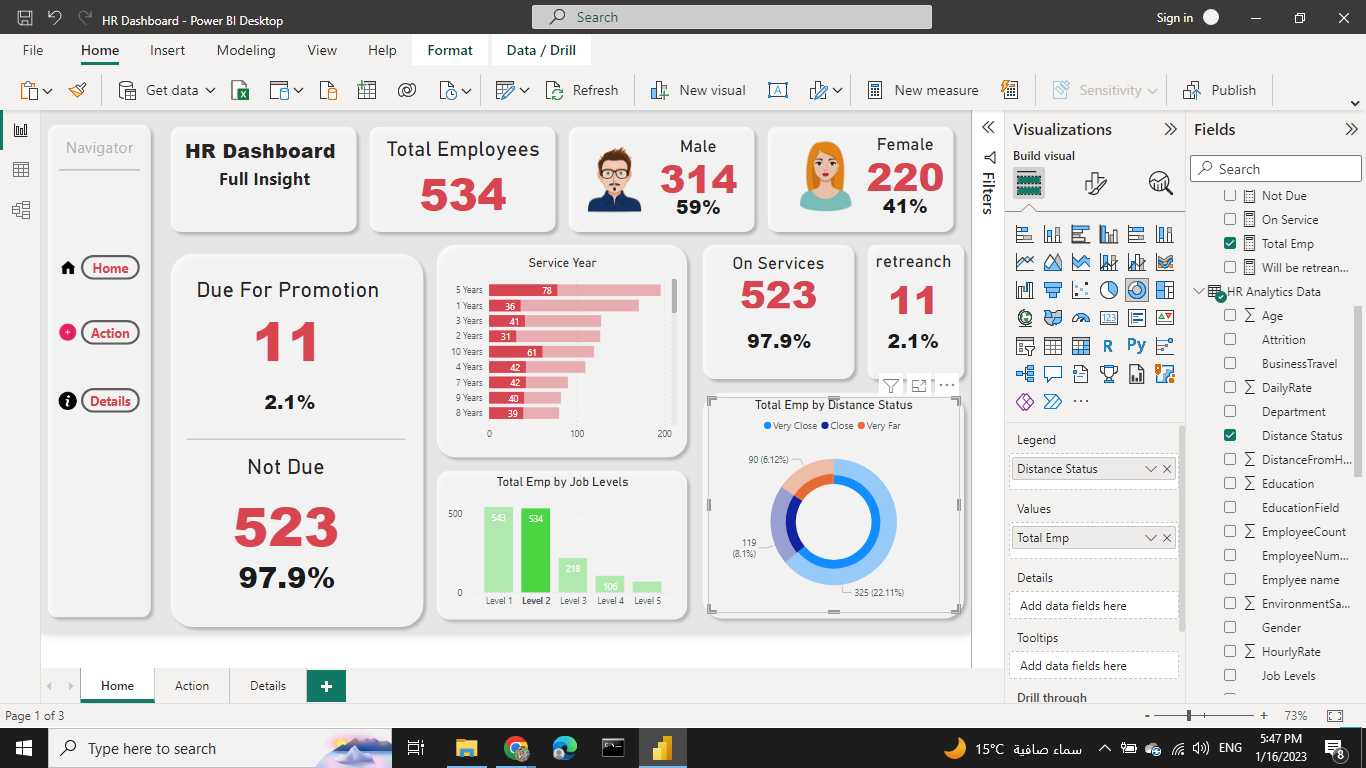

Layout of this report page (visuals, bound fields, positions):
{"tool":"powerbi","page":{"name":"Home","canvas":[1280,720],"ordinal":0},"visuals":[{"type":"shape","box":[169.7,13.4,273.8,162.9],"z":0},{"type":"shape","box":[443.5,13.4,273.8,162.9],"z":1000},{"type":"shape","box":[717.3,13.4,273.8,162.9],"z":2000},{"type":"shape","box":[991.1,13.4,273.8,162.9],"z":3000},{"type":"shape","box":[169.7,188.1,366.2,532.5],"z":4000},{"type":"shape","box":[535.9,176.4,362.8,310.8],"z":5000},{"type":"shape","box":[535.9,487.1,362.8,223.4],"z":6000},{"type":"shape","box":[902,176.4,226.8,203.3],"z":7000},{"type":"shape","box":[1128.8,176.4,151.2,203.3],"z":8000},{"type":"shape","box":[902,379.6,378,329.2],"z":9000},{"type":"textbox","box":[193.2,31.9,228.5,48.7],"z":10000},{"type":"textbox","box":[226.8,72.2,161.3,47],"z":11000},{"type":"card","title":"Total Employees","fields":{"Values":["All Measures.Total Emp"]},"box":[467,35.3,228.5,119.3],"z":12000},{"type":"card","title":"Male","fields":{"Values":["All Measures.Male"]},"box":[841.6,35.3,127.7,84],"z":13000},{"type":"card","title":"Male","fields":{"Values":["All Measures.% Male"]},"box":[841.6,92.4,127.7,84],"z":14000},{"type":"card","title":"Female","fields":{"Values":["All Measures.Female"]},"box":[1125.4,33.5,127.7,84],"z":15000},{"type":"card","title":"Male","fields":{"Values":["All Measures.% Female"]},"box":[1125.4,90.6,127.7,84],"z":16000},{"type":"image","box":[735.7,38.6,105.8,112.5],"z":17000},{"type":"image","box":[1016.3,25.2,127.7,132.7],"z":18000},{"type":"card","title":"Due For Promotion","fields":{"Values":["All Measures.Due For Promotion"]},"box":[208.3,230.1,263.7,131],"z":19000},{"type":"card","title":"Male","fields":{"Values":["All Measures.% Due For Promotion"]},"box":[265,360,154.5,83.6],"z":20000},{"type":"card","title":"Not Due","fields":{"Values":["All Measures.Not Due"]},"box":[208.3,473.7,258.7,152.9],"z":21000},{"type":"card","title":"Male","fields":{"Values":["All Measures.% Not Due"]},"box":[255.3,599.7,164.6,84],"z":22000},{"type":"shape","box":[201.6,443.5,300.7,20.2],"z":23000},{"type":"barChart","title":"Service Year","fields":{"Category":["HR Analytics Data.Service Year"],"Y":["All Measures.Total Emp"]},"box":[554.3,199.9,325.9,263.7],"z":24000},{"type":"columnChart","fields":{"Category":["HR Analytics Data.Job Levels "],"Y":["All Measures.Total Emp"]},"box":[554.3,500.6,325.9,193.2],"z":25000},{"type":"card","title":"On Services","fields":{"Values":["All Measures.On Service"]},"box":[918.4,197,194.2,80.8],"z":26000},{"type":"card","title":"Male","fields":{"Values":["All Measures.% On Services"]},"box":[952.4,276.4,127.6,83.6],"z":27000},{"type":"card","title":"retreanch","fields":{"Values":["All Measures.Will be retreanched"]},"box":[1125.4,194.2,150.2,102],"z":28000},{"type":"card","title":"Male","fields":{"Values":["All Measures.% Will be retreanched"]},"box":[1136.7,276.4,127.6,83.6],"z":29000},{"type":"donutChart","fields":{"Category":["HR Analytics Data.Distance Status"],"Y":["All Measures.Total Emp"]},"box":[918.4,395.4,345.8,296.2],"z":30000},{"type":"shape","box":[0,11.3,160.2,695.9],"z":31000},{"type":"actionButton","box":[55.3,199.8,80.8,34],"z":32000},{"type":"textbox","box":[28.3,31.2,119.1,49.6],"z":33000},{"type":"shape","box":[24.1,45.4,112,73.7],"z":34000},{"type":"actionButton","box":[55.3,289.1,80.8,34],"z":35000},{"type":"actionButton","box":[55.3,382.7,80.8,34],"z":36000},{"type":"image","box":[19.8,199.8,35.4,34],"z":37000},{"type":"image","box":[19.8,282,35.4,46.8],"z":38000},{"type":"image","box":[19.8,379.8,35.4,41.1],"z":39000}]}

Visuals, with their boxes on the page's 1280x720 design canvas (x1, y1, x2, y2). These are canvas units, not pixel positions in the 1366x768 screenshot, which may show the page scaled, cropped or inside an application window:
shape: (left=170, top=13, right=444, bottom=176)
shape: (left=444, top=13, right=717, bottom=176)
shape: (left=717, top=13, right=991, bottom=176)
shape: (left=991, top=13, right=1265, bottom=176)
shape: (left=170, top=188, right=536, bottom=721)
shape: (left=536, top=176, right=899, bottom=487)
shape: (left=536, top=487, right=899, bottom=710)
shape: (left=902, top=176, right=1129, bottom=380)
shape: (left=1129, top=176, right=1280, bottom=380)
shape: (left=902, top=380, right=1280, bottom=709)
textbox: (left=193, top=32, right=422, bottom=81)
textbox: (left=227, top=72, right=388, bottom=119)
"Total Employees" card: (left=467, top=35, right=696, bottom=155)
"Male" card: (left=842, top=35, right=969, bottom=119)
"Male" card: (left=842, top=92, right=969, bottom=176)
"Female" card: (left=1125, top=34, right=1253, bottom=118)
"Male" card: (left=1125, top=91, right=1253, bottom=175)
image: (left=736, top=39, right=842, bottom=151)
image: (left=1016, top=25, right=1144, bottom=158)
"Due For Promotion" card: (left=208, top=230, right=472, bottom=361)
"Male" card: (left=265, top=360, right=420, bottom=444)
"Not Due" card: (left=208, top=474, right=467, bottom=627)
"Male" card: (left=255, top=600, right=420, bottom=684)
shape: (left=202, top=444, right=502, bottom=464)
"Service Year" barChart: (left=554, top=200, right=880, bottom=464)
columnChart - HR Analytics Data.Job Levels  x All Measures.Total Emp: (left=554, top=501, right=880, bottom=694)
"On Services" card: (left=918, top=197, right=1113, bottom=278)
"Male" card: (left=952, top=276, right=1080, bottom=360)
"retreanch" card: (left=1125, top=194, right=1276, bottom=296)
"Male" card: (left=1137, top=276, right=1264, bottom=360)
donutChart - HR Analytics Data.Distance Status x All Measures.Total Emp: (left=918, top=395, right=1264, bottom=692)
shape: (left=0, top=11, right=160, bottom=707)
actionButton: (left=55, top=200, right=136, bottom=234)
textbox: (left=28, top=31, right=147, bottom=81)
shape: (left=24, top=45, right=136, bottom=119)
actionButton: (left=55, top=289, right=136, bottom=323)
actionButton: (left=55, top=383, right=136, bottom=417)
image: (left=20, top=200, right=55, bottom=234)
image: (left=20, top=282, right=55, bottom=329)
image: (left=20, top=380, right=55, bottom=421)
